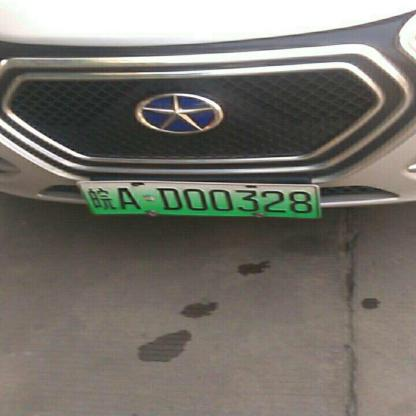lp: (79, 185, 320, 216)
